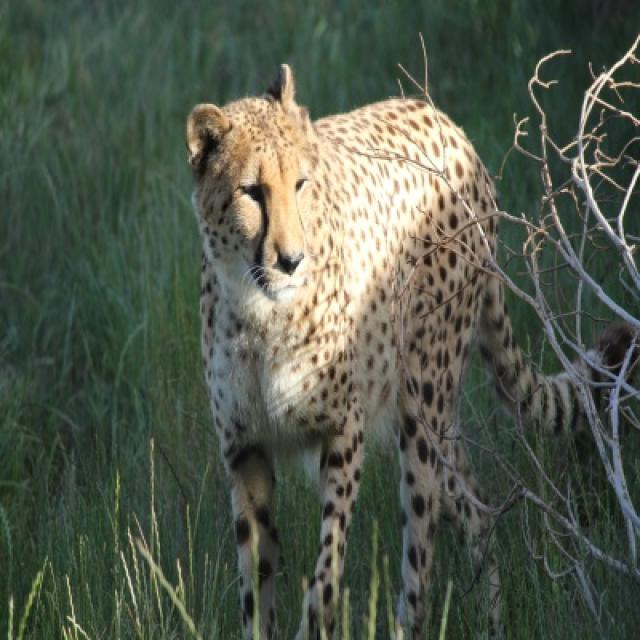Cheetah: (184, 68, 638, 638)
